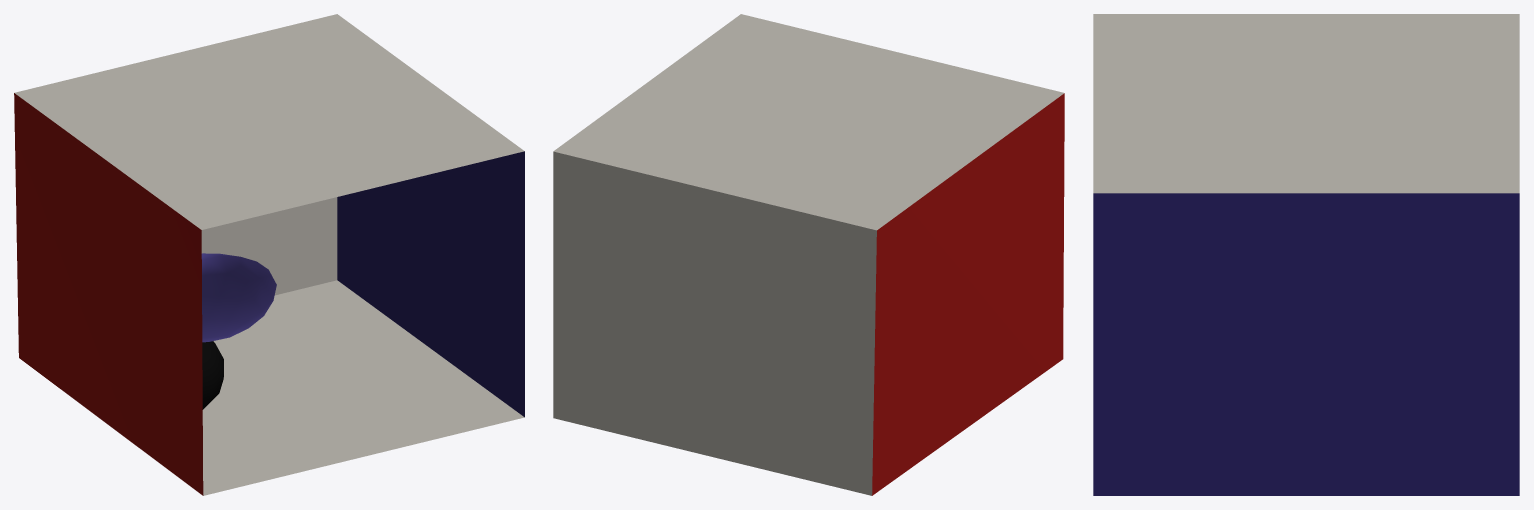
File: CornellBox-Ellipsoid-116.obj
3 renders of one model, left to right at view 1: azimuth 30°, elevation 25°; view 2: azimuth 150°, elevation 25°; view 3: azimuth 270°, elevation 25°, orthographic. The views are drawn at different scales.
Parts seen in each view (by area): view 1: ceiling, leftWall, floor, rightWall, backWall, leftSphere, rightSphere; view 2: backWall, ceiling, leftWall; view 3: rightWall, ceiling.
Part boxes in pixels (box(x1,y1,x2,y2)): ceiling: box(14, 14, 524, 229); leftWall: box(14, 93, 203, 495); floor: box(202, 280, 524, 495); rightWall: box(337, 151, 524, 417); backWall: box(201, 197, 337, 295); leftSphere: box(201, 253, 276, 342); rightSphere: box(202, 341, 223, 409); backWall: box(553, 151, 876, 495); ceiling: box(553, 14, 1064, 230); leftWall: box(872, 93, 1064, 495); rightWall: box(1093, 193, 1519, 495); ceiling: box(1093, 14, 1519, 193).
Bounding box in the file's own units: 2.02 × 1.59 × 2.03.
